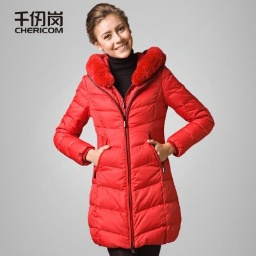face: (84, 2, 138, 60)
